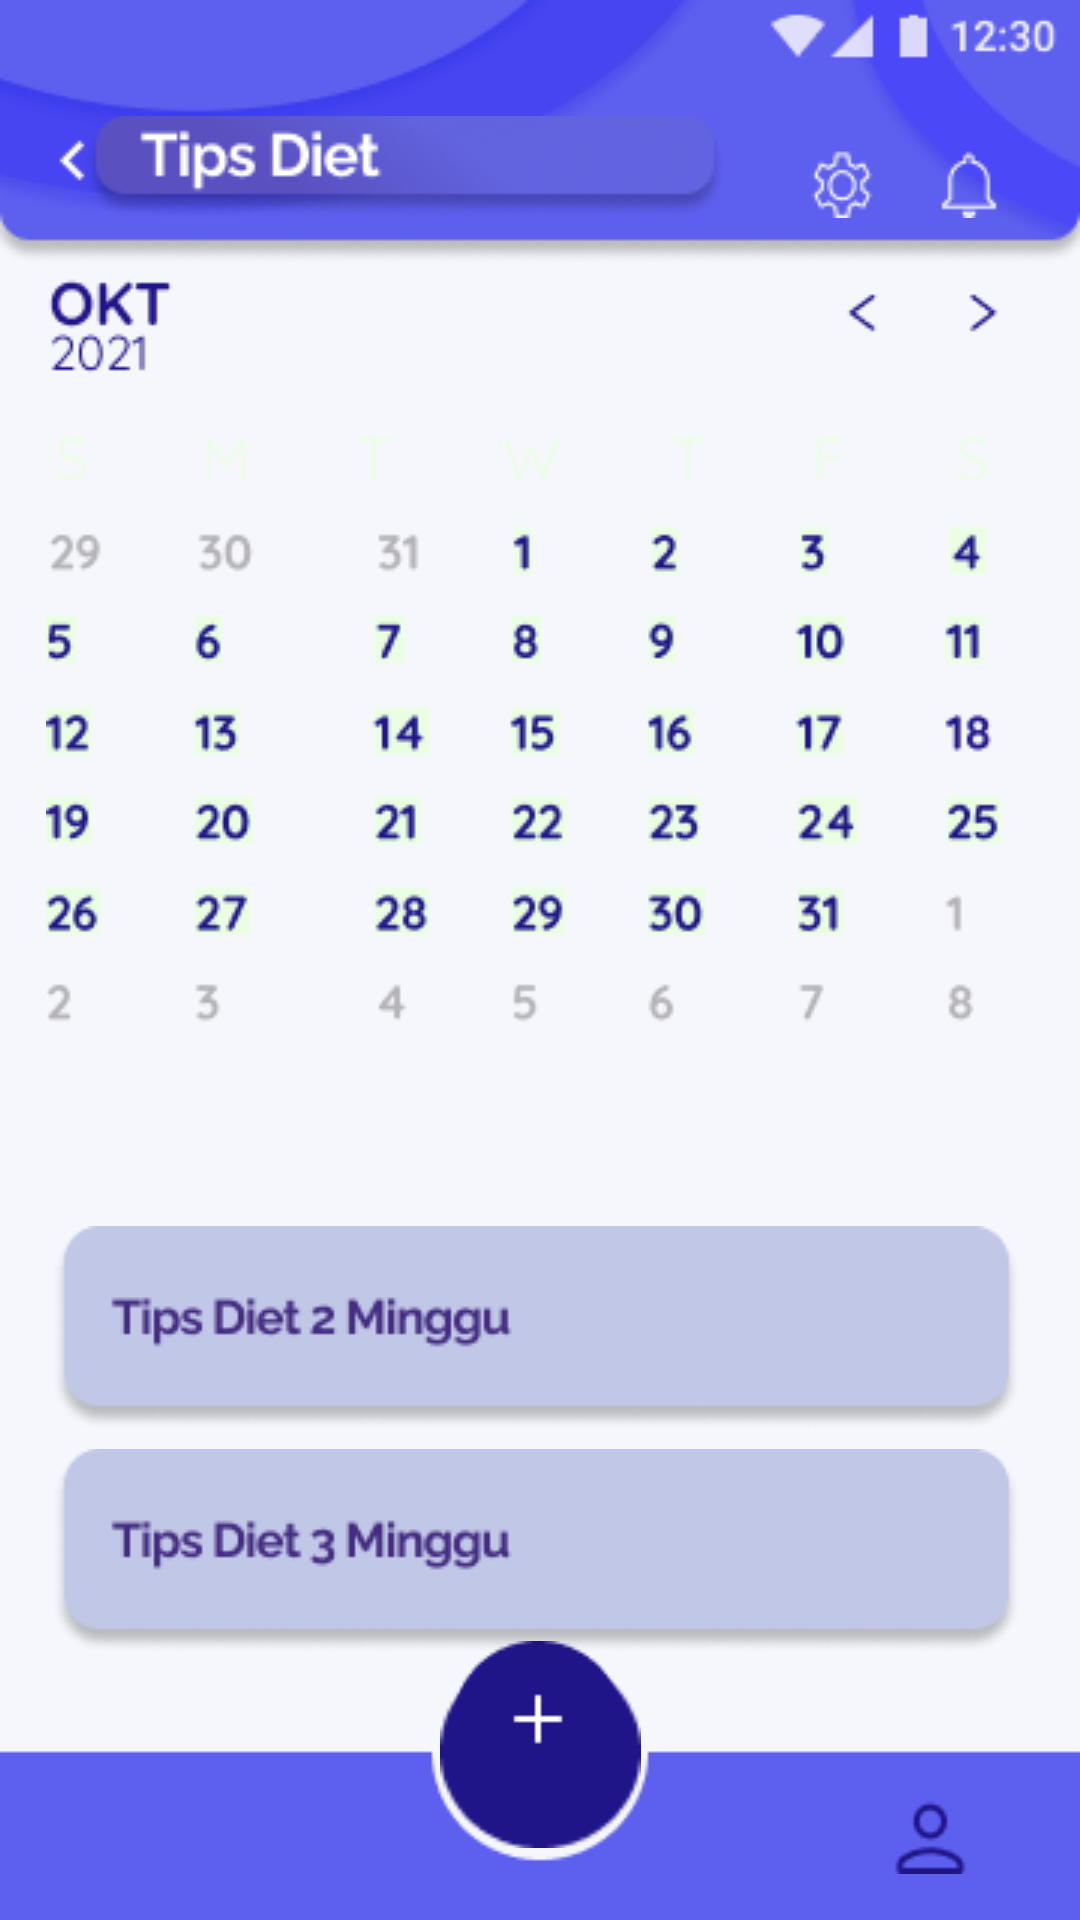

Named icons in this screenshot (1080 × 1920) and their centers, [x,y]:
settings: [842,184]
